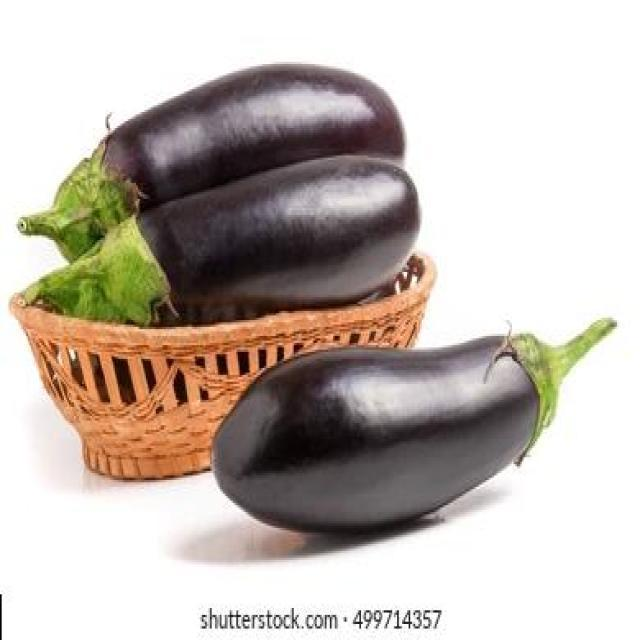Eggplant: (210, 320, 617, 538), (100, 63, 423, 329)
